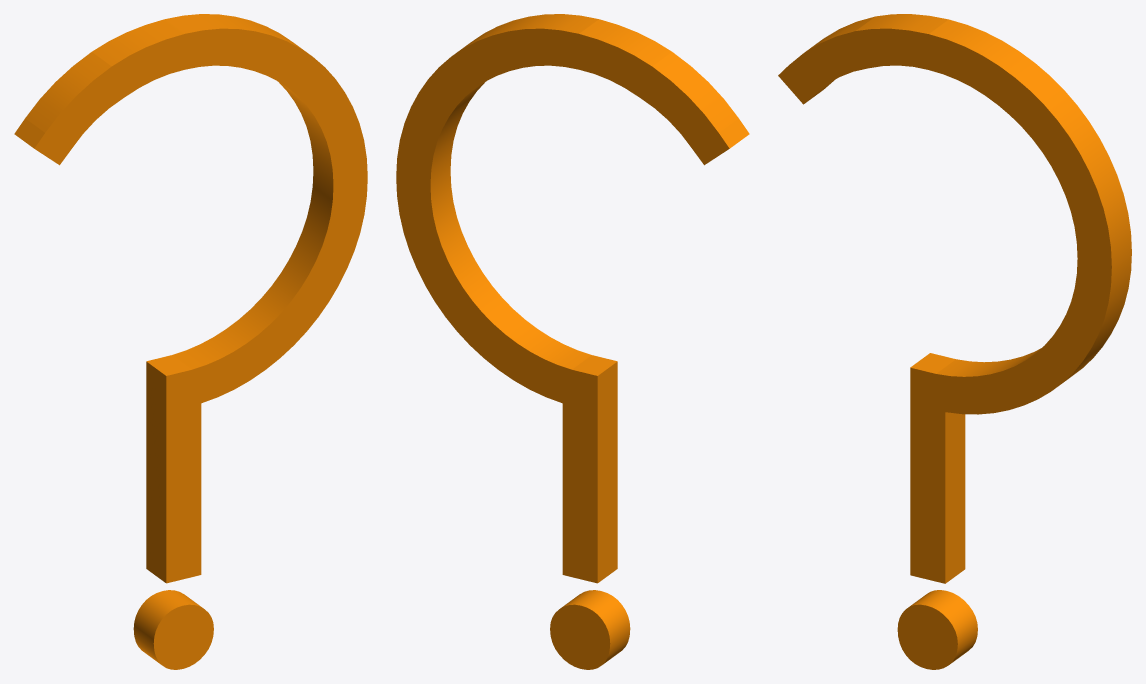
File: Question.FBX
3 views of the same model, side by side, from view 1: azimuth 30°, elevation 25°; view 2: azimuth 150°, elevation 25°; view 3: azimuth 330°, elevation 25° (orthographic).
Parts seen in each view (by area): view 1: Question; view 2: Question; view 3: Question.
Part boxes in pixels (x1=…): Question: x1=14, y1=14, x2=367, y2=669; Question: x1=396, y1=14, x2=749, y2=669; Question: x1=778, y1=14, x2=1131, y2=669.
Size of the model in its own units: 47.97 by 87.24 by 5.
